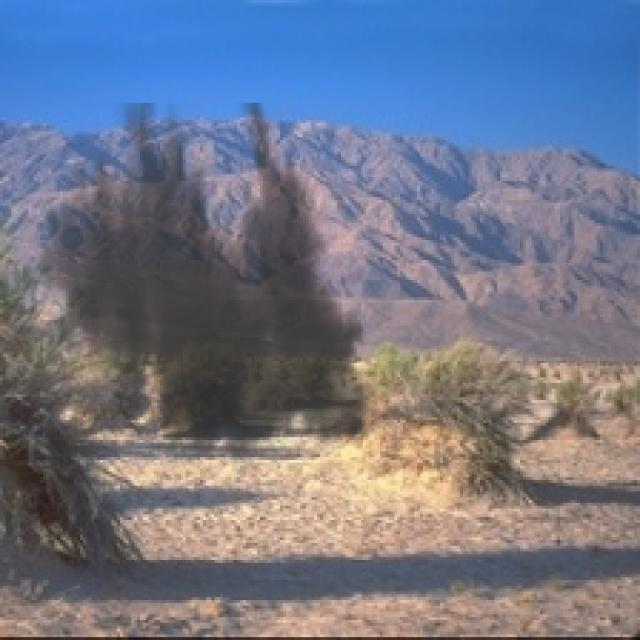Smoke: (26, 102, 392, 478)
